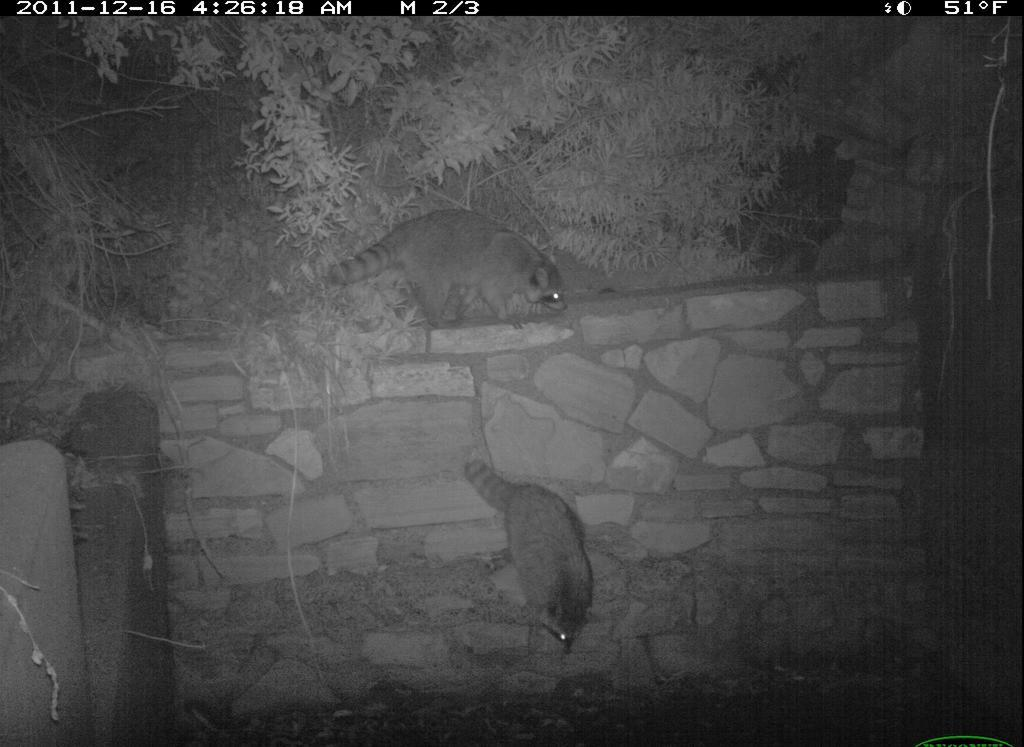raccoon: (328, 195, 610, 349), (457, 445, 629, 667)
